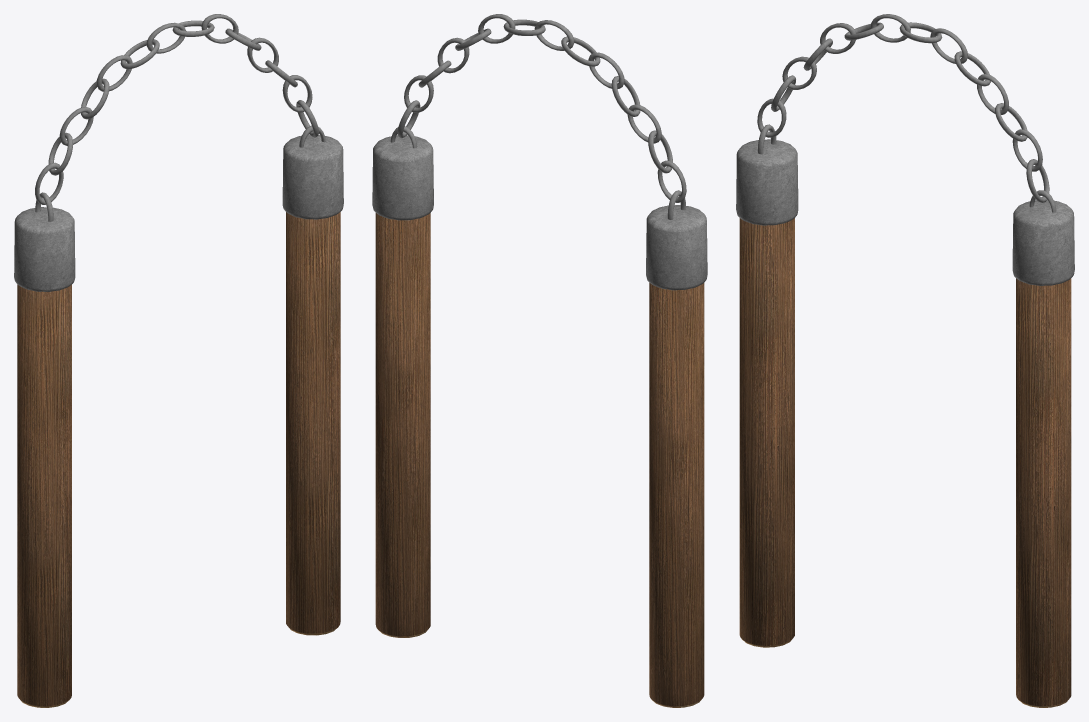
Rendered from Nunchucks.FBX.
3 views of the same model, side by side, from view 1: azimuth 30°, elevation 25°; view 2: azimuth 150°, elevation 25°; view 3: azimuth 330°, elevation 25° (orthographic).
Parts seen in each view (by area): view 1: Cylinder002, Cylinder001, Torus001, Torus015; view 2: Cylinder002, Cylinder001, Torus015, Torus001; view 3: Cylinder001, Cylinder002, Torus001, Torus015.
Part boxes in pixels (x1,y1,x2,y2): Cylinder002: [286, 212, 340, 635]; Cylinder001: [17, 284, 71, 707]; Torus001: [14, 207, 75, 291]; Torus015: [282, 134, 343, 219]; Cylinder002: [375, 213, 430, 637]; Cylinder001: [649, 283, 704, 707]; Torus015: [372, 135, 433, 220]; Torus001: [646, 205, 707, 290]; Cylinder001: [739, 218, 794, 647]; Cylinder002: [1016, 278, 1071, 707]; Torus001: [736, 139, 798, 225]; Torus015: [1012, 200, 1074, 285].
Size of the model in its own units: 261 by 498 by 45.62.
